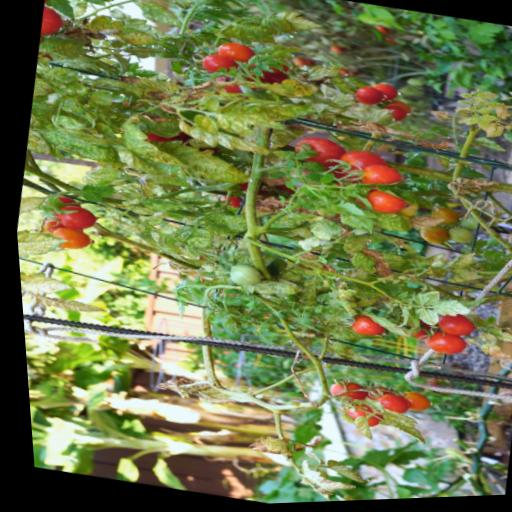Spider Mites: (197, 88, 318, 151), (145, 134, 254, 196), (115, 120, 194, 171), (83, 10, 166, 53), (38, 126, 122, 168), (185, 123, 272, 159), (287, 458, 354, 500), (24, 290, 105, 319), (367, 408, 424, 448), (13, 225, 67, 265), (16, 265, 74, 302), (113, 72, 179, 104), (349, 310, 411, 343), (236, 275, 299, 305), (193, 208, 246, 242), (36, 33, 92, 65), (133, 170, 196, 197), (135, 194, 197, 221), (263, 75, 318, 103), (272, 9, 325, 38), (325, 324, 380, 351), (229, 19, 279, 48), (137, 0, 185, 30), (77, 161, 123, 192), (315, 459, 364, 487), (408, 251, 448, 284), (228, 249, 278, 273), (240, 432, 284, 458), (302, 217, 341, 246), (370, 212, 412, 238), (426, 298, 469, 323), (75, 181, 116, 207), (436, 249, 475, 276), (39, 62, 80, 87), (258, 14, 300, 38), (304, 66, 348, 88), (342, 252, 377, 278), (293, 279, 322, 310), (23, 127, 54, 155), (189, 113, 221, 138), (106, 50, 135, 77), (15, 192, 44, 219), (337, 233, 368, 258), (372, 253, 408, 274), (473, 344, 509, 365), (343, 415, 370, 443), (148, 0, 205, 13), (405, 289, 437, 311), (478, 328, 512, 348), (321, 340, 352, 360), (52, 114, 83, 133), (409, 309, 437, 330), (85, 89, 112, 108), (352, 398, 380, 416), (181, 234, 210, 251), (350, 294, 377, 312), (481, 124, 504, 144), (298, 159, 326, 175), (90, 120, 113, 139), (153, 222, 178, 239), (293, 148, 318, 163), (136, 213, 161, 228), (275, 218, 299, 232), (510, 132, 512, 155)
